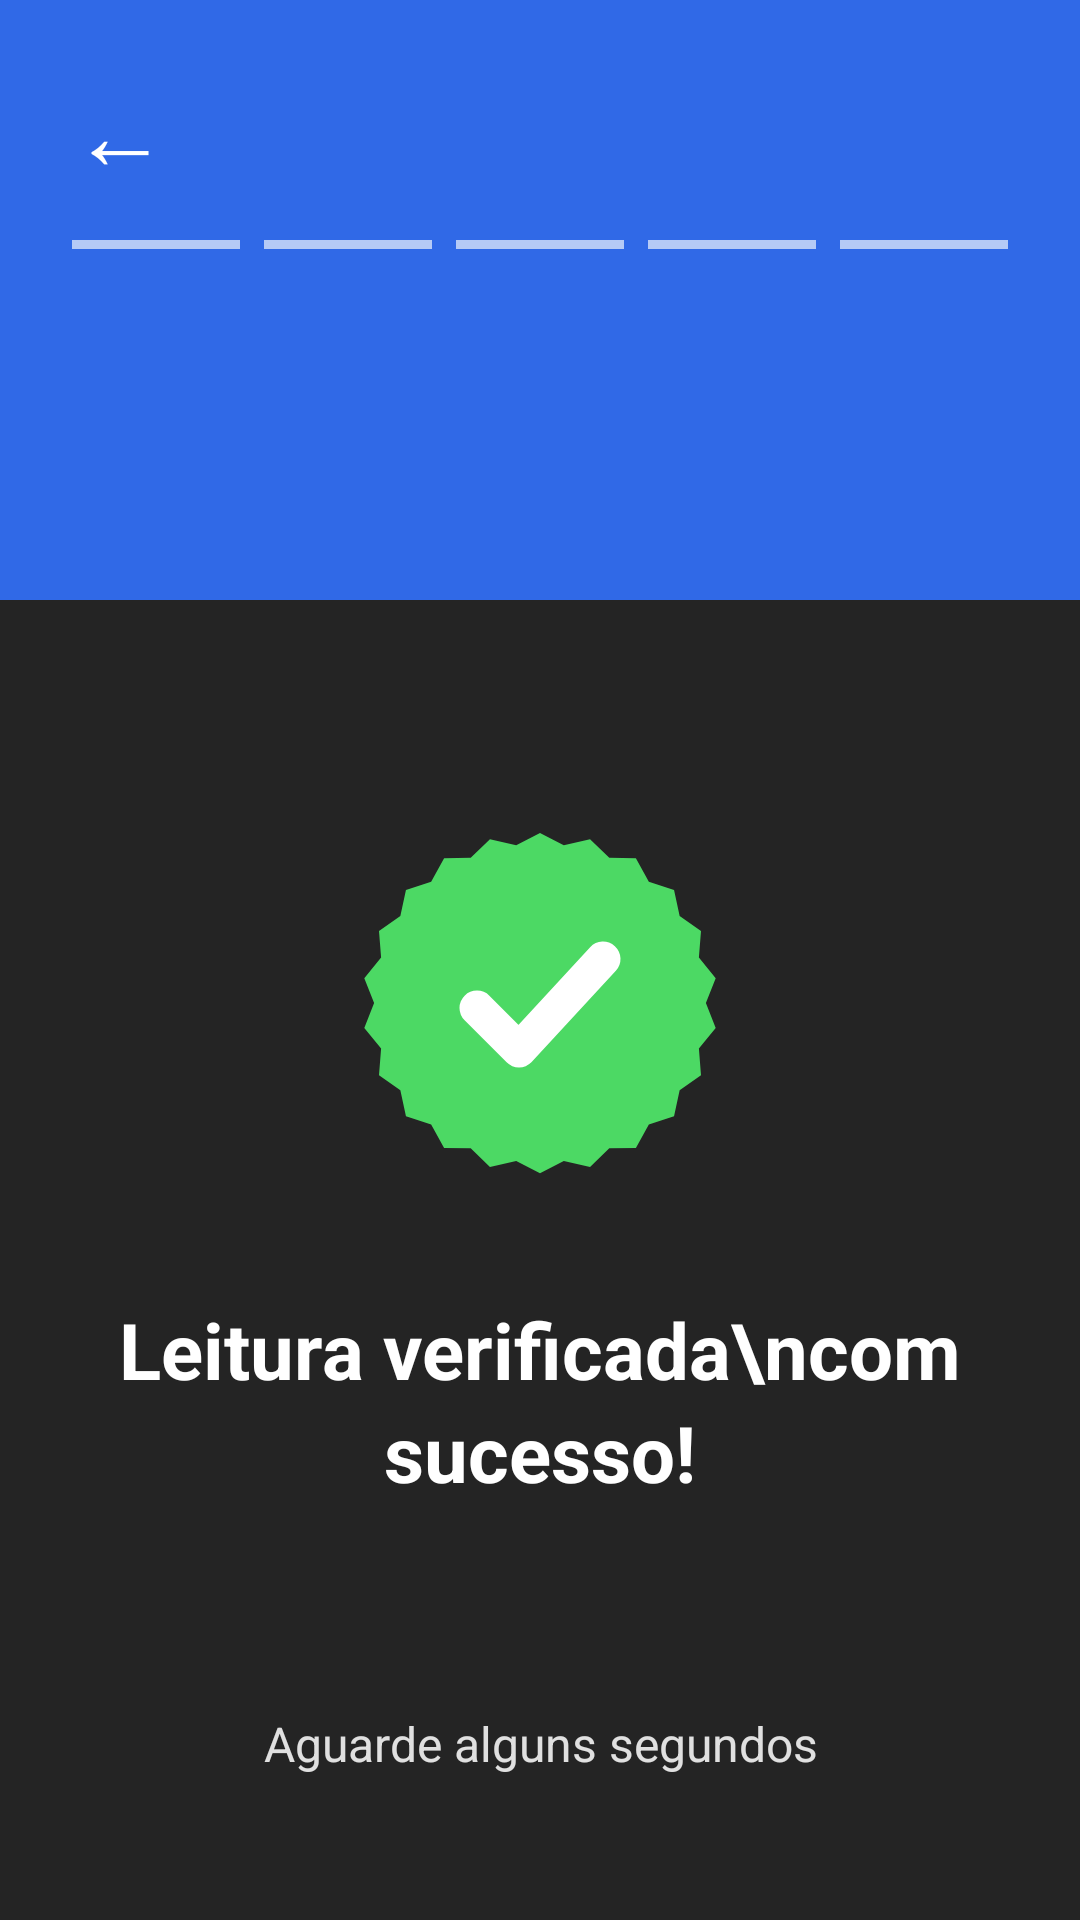

Icon click points for this 1080 × 1920 phone screenshot, format (x=x, y=y):
auth success badge: (x=540, y=1003)
